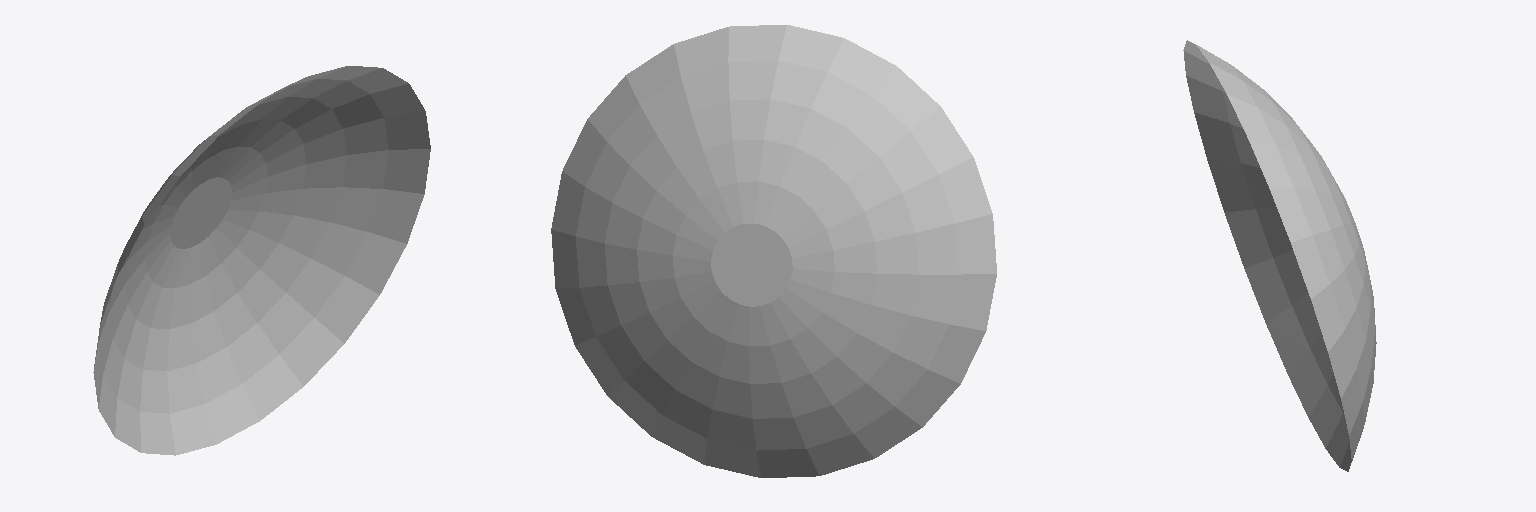
The model's file is original-14.obj.
3 views of the same model, side by side, from view 1: azimuth 30°, elevation 25°; view 2: azimuth 150°, elevation 25°; view 3: azimuth 270°, elevation 25° (orthographic).
Parts seen in each view (by area): view 1: #ID60; view 2: #ID60; view 3: #ID60.
Boxes of the visible parts, box(x1,y1,x2,y2) form: #ID60: box(93, 66, 430, 455); #ID60: box(551, 25, 996, 477); #ID60: box(1183, 40, 1376, 471).
Bounding box in the file's own units: 0.0254 × 0.0253 × 0.011.